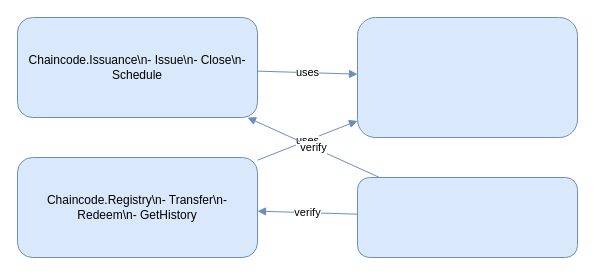
This 595x275 diagram has some shape labels left out. The shapes that lost their labels are listed below. From the top down, each one's box as (x1, y1, x2, y2) in pixels, then its label:
(356, 16, 578, 138): Domain\nCFA, Issuance,\nAccount, Holder
(356, 176, 578, 258): Tests\nunit/e2e
